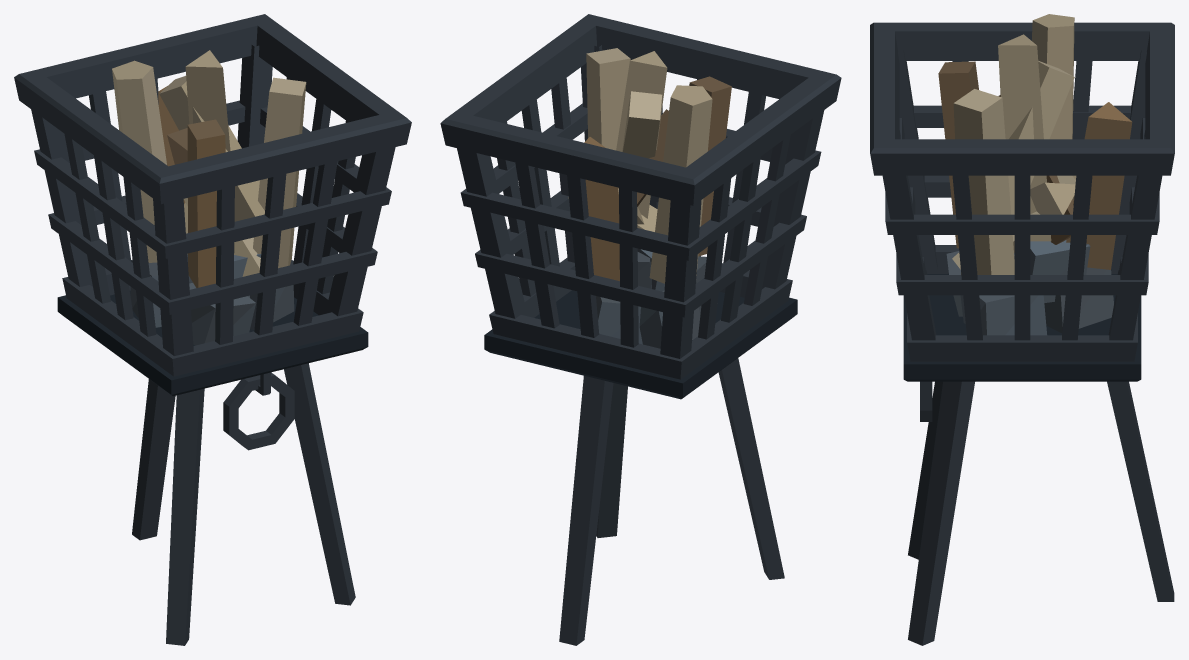
The model's file is kagaribi-fire-basket-d28c11.glb.
3 views of the same model, side by side, from view 1: azimuth 30°, elevation 25°; view 2: azimuth 150°, elevation 25°; view 3: azimuth 270°, elevation 25° (orthographic). The views are drawn at different scales.
Visible parts, largest first — view 1: kagaribi-mesh, fuel-mesh, ring-mesh; view 2: kagaribi-mesh, fuel-mesh; view 3: kagaribi-mesh, fuel-mesh, ring-mesh.
Part boxes in pixels (box(x1,y1,x2,y2)): kagaribi-mesh: box(14, 14, 411, 645); fuel-mesh: box(112, 50, 306, 345); ring-mesh: box(223, 372, 294, 450); kagaribi-mesh: box(440, 14, 841, 645); fuel-mesh: box(568, 48, 731, 348); kagaribi-mesh: box(870, 22, 1174, 645); fuel-mesh: box(938, 14, 1132, 335); ring-mesh: box(920, 381, 932, 421).
Bounding box in the file's own units: 0.6201 × 1.24 × 0.6201.
